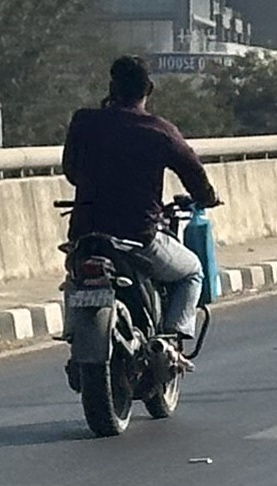Helmet: (49, 51, 228, 444)
NoHelmet: (100, 50, 158, 114)
